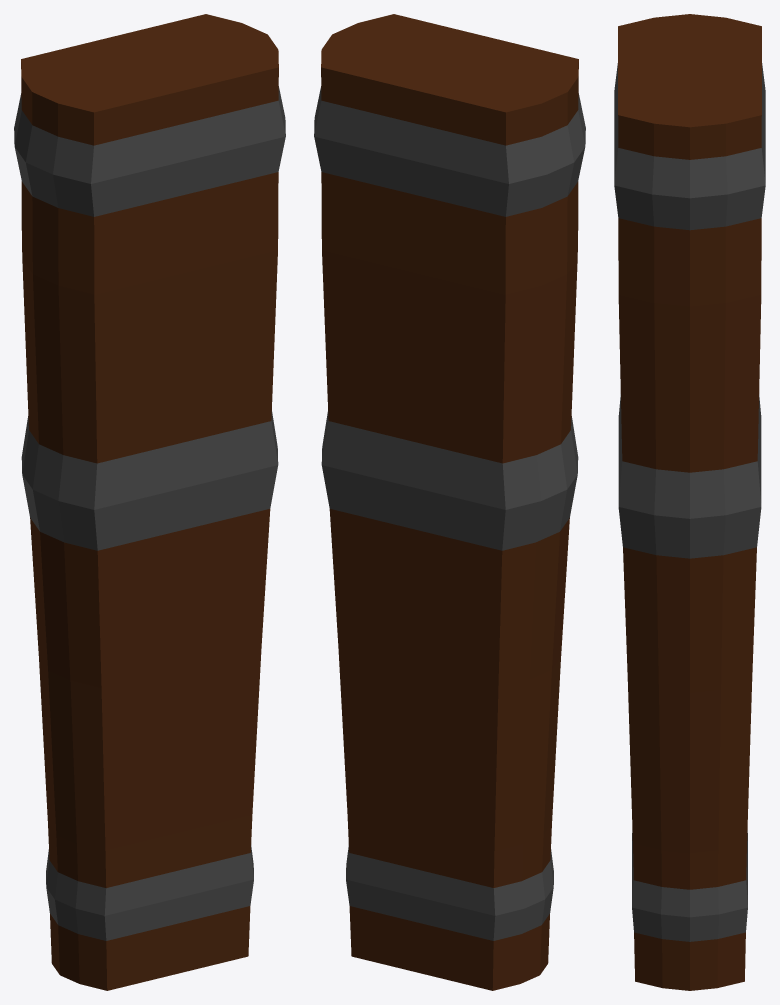
Rendered from ModularSwordKit_Grip03.fbx.
3 views of the same model, side by side, from view 1: azimuth 30°, elevation 25°; view 2: azimuth 150°, elevation 25°; view 3: azimuth 270°, elevation 25° (orthographic).
Parts seen in each view (by area): view 1: Grip03; view 2: Grip03; view 3: Grip03.
Part boxes in pixels (x1=…): Grip03: x1=14, y1=14, x2=285, y2=990; Grip03: x1=314, y1=14, x2=585, y2=990; Grip03: x1=614, y1=14, x2=765, y2=990.
Size of the model in its own units: 16.91 by 57.88 by 9.06.
